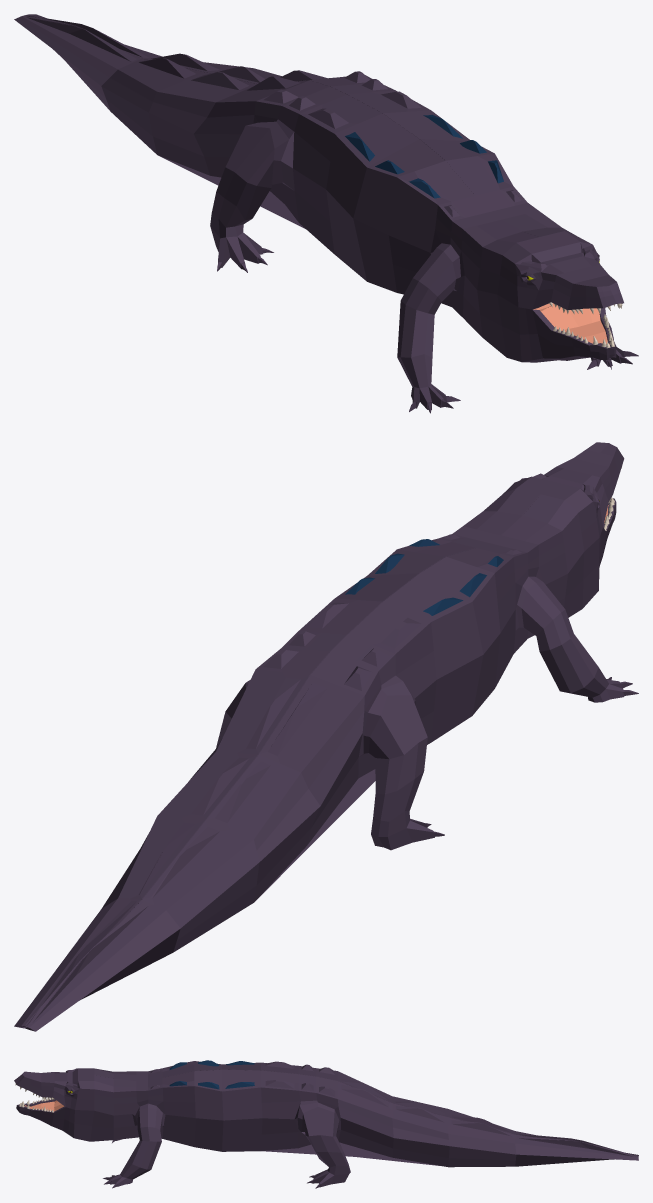
File: fuckcrocodiletwice.fbx
3 renders of one model, top to bottom at view 1: azimuth 30°, elevation 25°; view 2: azimuth 150°, elevation 25°; view 3: azimuth 270°, elevation 25°, orthographic. The views are drawn at different scales.
Parts seen in each view (by area): view 1: Cube, Cube.004, Cube.001; view 2: Cube, Cube.001; view 3: Cube, Cube.001, Cube.004.
Boxes of the visible parts, left/top/right/bottom form: Cube: left=14, top=14, right=638, bottom=413; Cube.004: left=533, top=303, right=609, bottom=345; Cube.001: left=345, top=114, right=503, bottom=198; Cube: left=14, top=442, right=638, bottom=1031; Cube.001: left=345, top=539, right=503, bottom=615; Cube: left=14, top=1061, right=638, bottom=1188; Cube.001: left=169, top=1060, right=254, bottom=1089; Cube.004: left=24, top=1100, right=64, bottom=1111.
Bounding box in the file's own units: 205 × 146 × 915.
